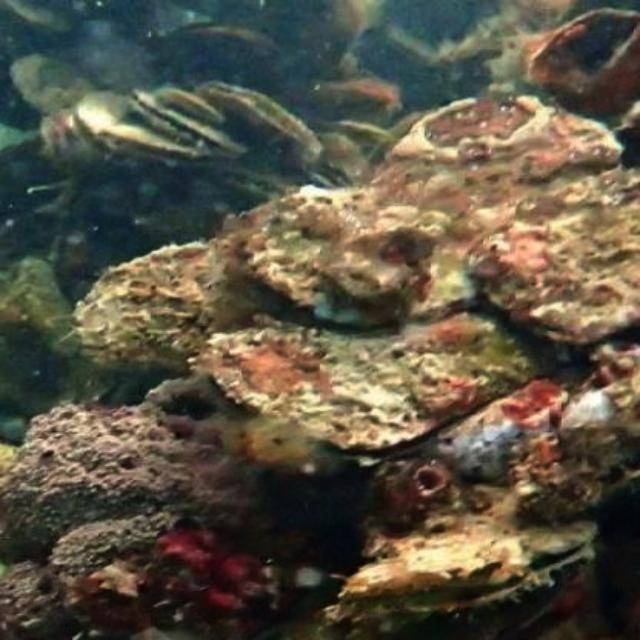Oyster-Closed: (227, 186, 485, 323), (73, 238, 317, 372), (371, 98, 629, 213), (475, 176, 638, 339), (518, 375, 638, 518), (269, 0, 361, 81), (5, 47, 96, 116), (163, 23, 285, 74), (36, 116, 82, 175)
Oyster-Open: (207, 311, 579, 466), (337, 518, 604, 624), (74, 85, 240, 174), (199, 81, 324, 177), (530, 7, 638, 106), (118, 88, 247, 157), (212, 171, 299, 207)
